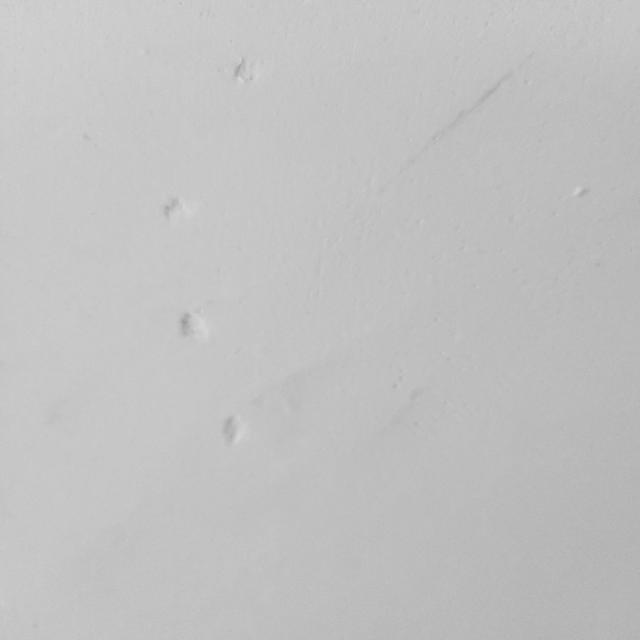rough and patchy surface: (137, 145, 286, 464), (196, 46, 300, 105)
stain marks: (247, 351, 458, 489), (382, 27, 544, 185)
